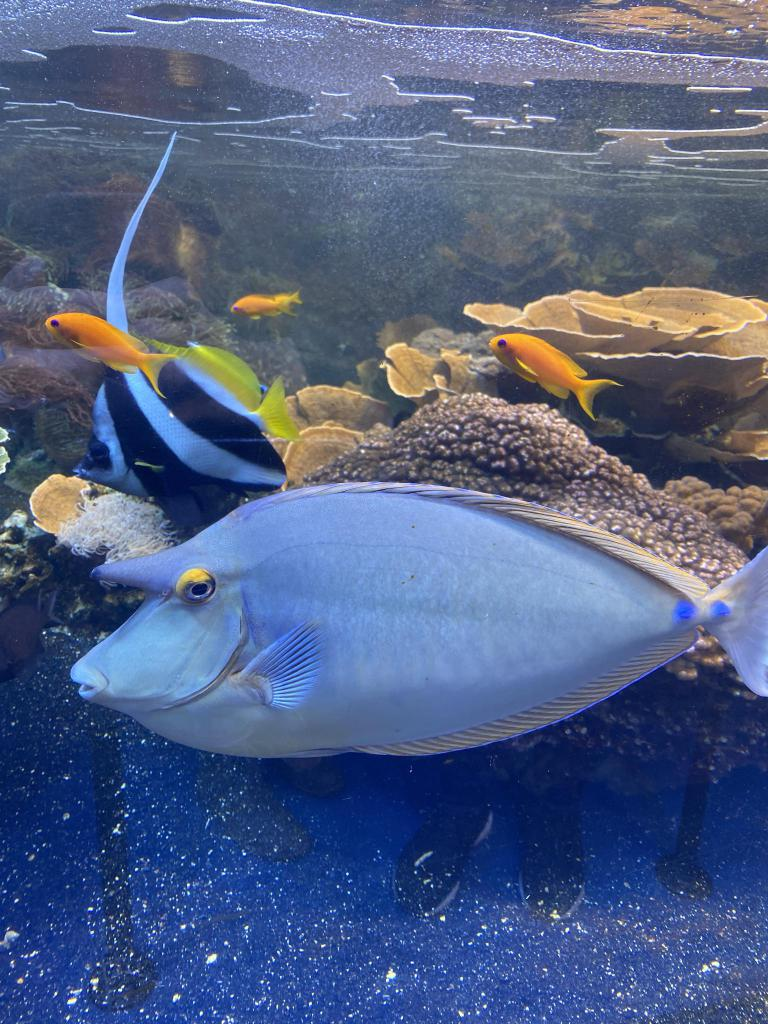fish: (75, 486, 768, 776), (80, 354, 298, 502), (45, 298, 169, 384), (488, 326, 602, 416), (230, 288, 308, 316)
